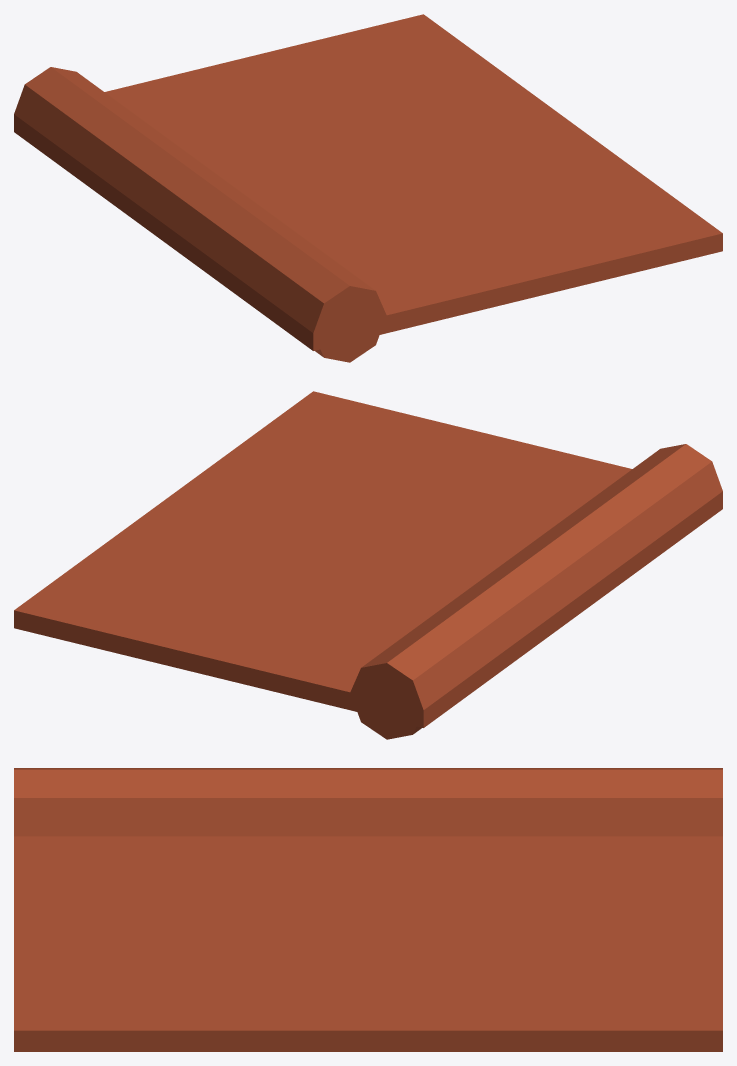
File: roof_tile_clay.glb
3 renders of one model, top to bottom at view 1: azimuth 30°, elevation 25°; view 2: azimuth 150°, elevation 25°; view 3: azimuth 270°, elevation 25°, orthographic. The views are drawn at different scales.
Parts seen in each view (by area): view 1: roof_tile_clay; view 2: roof_tile_clay; view 3: roof_tile_clay.
Part boxes in pixels (x1,y1,x2,y2): roof_tile_clay: [14, 14, 722, 362]; roof_tile_clay: [14, 391, 722, 739]; roof_tile_clay: [14, 768, 722, 1051].
Size of the model in its own units: 0.335 by 0.06 by 0.424.
